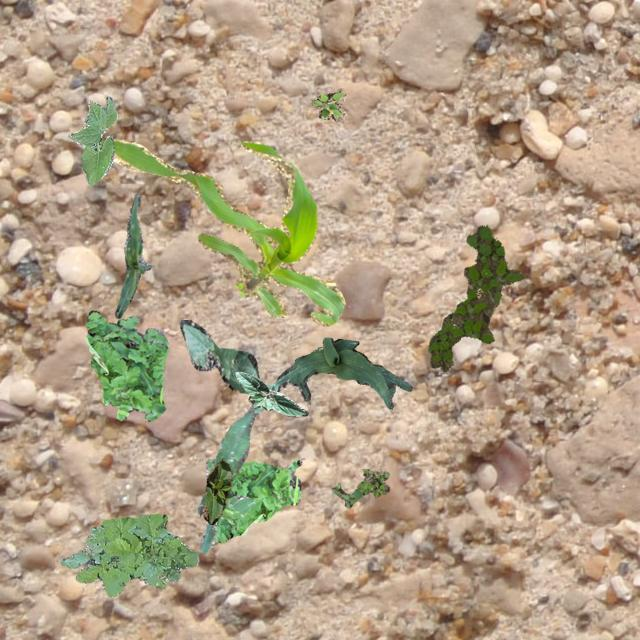crop: (112, 138, 344, 326), (270, 336, 412, 408), (197, 406, 263, 552), (179, 318, 257, 392), (114, 190, 150, 318), (66, 96, 116, 184), (234, 370, 306, 416), (202, 458, 232, 524)
weed: (427, 224, 522, 370), (59, 512, 198, 596), (84, 310, 168, 420), (214, 458, 300, 542), (332, 468, 388, 507), (310, 90, 346, 120)
